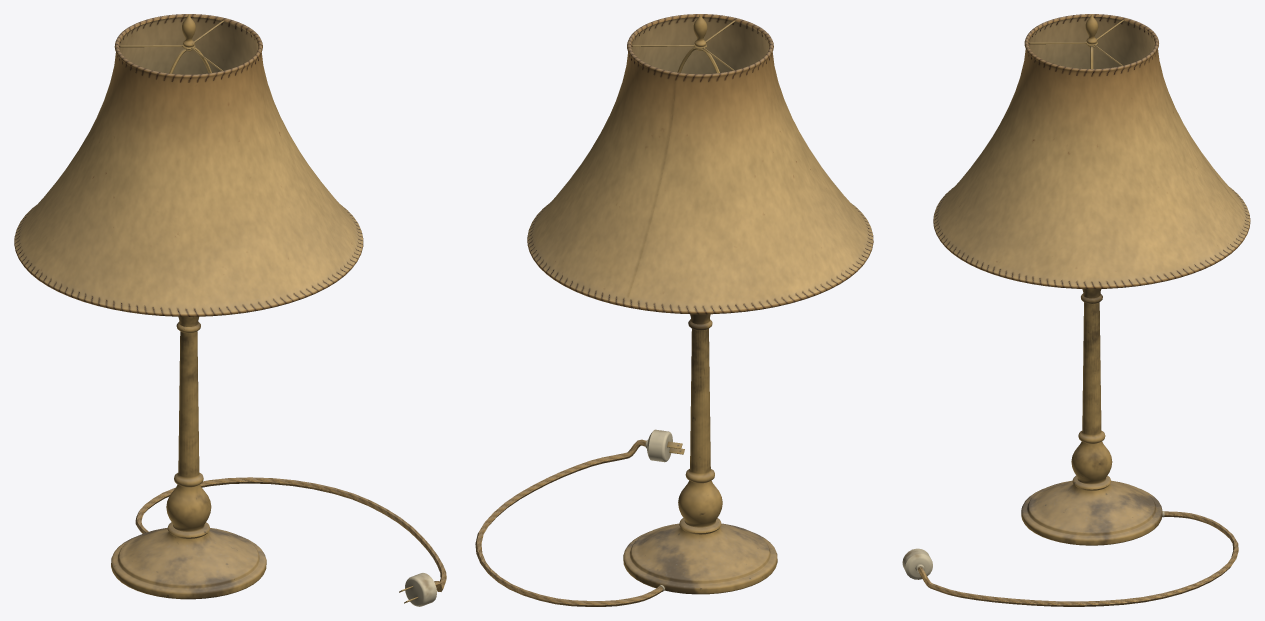
The model's file is UnpluggedLamp.fbx.
3 views of the same model, side by side, from view 1: azimuth 30°, elevation 25°; view 2: azimuth 150°, elevation 25°; view 3: azimuth 270°, elevation 25° (orthographic). The views are drawn at different scales.
Parts seen in each view (by area): view 1: UnpluggedLamp_Shade, UnpluggedLamp_Base; view 2: UnpluggedLamp_Shade, UnpluggedLamp_Base; view 3: UnpluggedLamp_Shade, UnpluggedLamp_Base.
Boxes of the visible parts, <box> form: UnpluggedLamp_Shade: <box>14,14,363,316</box>; UnpluggedLamp_Base: <box>111,47,446,606</box>; UnpluggedLamp_Shade: <box>527,14,873,314</box>; UnpluggedLamp_Base: <box>475,47,777,606</box>; UnpluggedLamp_Shade: <box>933,14,1250,288</box>; UnpluggedLamp_Base: <box>902,45,1238,606</box>.
Size of the model in its own units: 1.72 by 2.55 by 1.6.
Materials: 1 (1 with a texture image).
